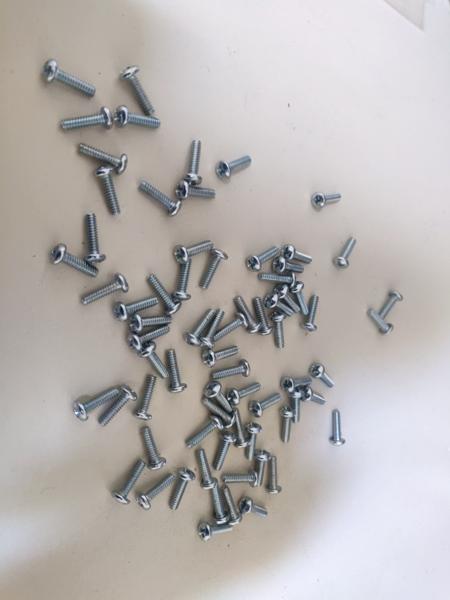shortscrew: (42, 59, 97, 98), (120, 66, 156, 117), (77, 142, 128, 176), (50, 244, 100, 278), (98, 385, 138, 427), (111, 460, 147, 505), (73, 388, 120, 422), (82, 273, 129, 306), (140, 181, 183, 217), (147, 274, 183, 316), (93, 165, 122, 216), (137, 473, 175, 511), (184, 416, 224, 449), (61, 106, 113, 131), (199, 249, 229, 291), (183, 309, 216, 347), (137, 342, 170, 380), (201, 396, 237, 429), (114, 297, 159, 323), (132, 376, 158, 421), (141, 427, 167, 471), (169, 469, 196, 511), (114, 105, 161, 129), (212, 312, 249, 342), (84, 214, 106, 264), (234, 296, 262, 334), (200, 309, 225, 349), (166, 349, 188, 394), (174, 241, 214, 265), (213, 432, 237, 472), (205, 381, 234, 414), (182, 141, 203, 186), (196, 449, 218, 490), (252, 297, 275, 336), (211, 359, 251, 381), (221, 486, 243, 526), (246, 247, 281, 272), (216, 156, 252, 180), (172, 259, 192, 302), (226, 383, 262, 406), (249, 393, 282, 418), (202, 346, 239, 368), (273, 284, 301, 313), (176, 180, 216, 200), (264, 292, 295, 317), (334, 237, 357, 270), (300, 295, 320, 332), (367, 309, 394, 336), (244, 423, 263, 461), (198, 522, 234, 542), (238, 496, 269, 518), (289, 281, 309, 315), (309, 363, 335, 389), (234, 409, 251, 448), (266, 456, 283, 495), (212, 489, 231, 523), (380, 291, 403, 319), (270, 312, 287, 349), (254, 450, 271, 487), (222, 470, 259, 487), (280, 245, 313, 264), (258, 272, 297, 288), (272, 256, 305, 274), (280, 407, 296, 444), (330, 410, 346, 447), (290, 389, 306, 423), (281, 376, 312, 393), (300, 385, 326, 405), (312, 192, 342, 209)
